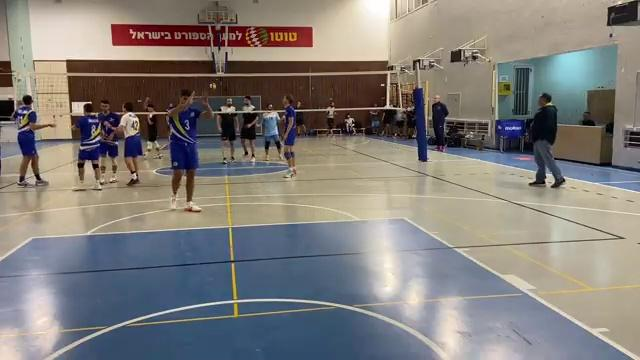ball: (207, 79, 219, 91)
